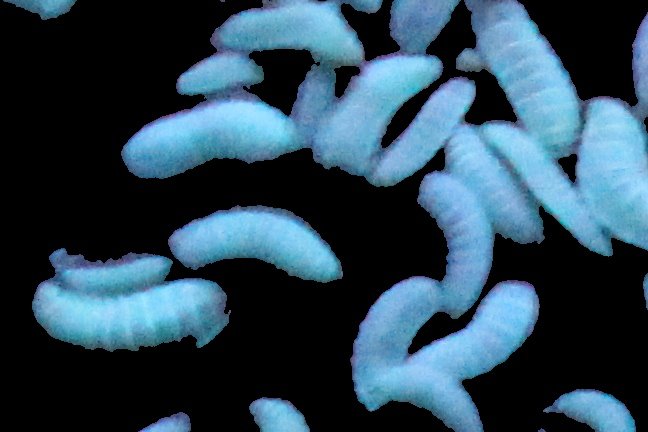larvae: (476, 117, 616, 263), (469, 1, 581, 156), (28, 272, 238, 353), (26, 270, 236, 351), (320, 51, 448, 179), (401, 279, 546, 378), (163, 206, 347, 283), (122, 99, 294, 181), (444, 124, 546, 252), (368, 72, 480, 188), (572, 95, 648, 253), (347, 278, 433, 415), (419, 169, 495, 321), (208, 1, 365, 68), (375, 365, 484, 432), (44, 247, 167, 294), (290, 57, 336, 155), (541, 386, 638, 432), (378, 1, 461, 53), (169, 53, 265, 94)
